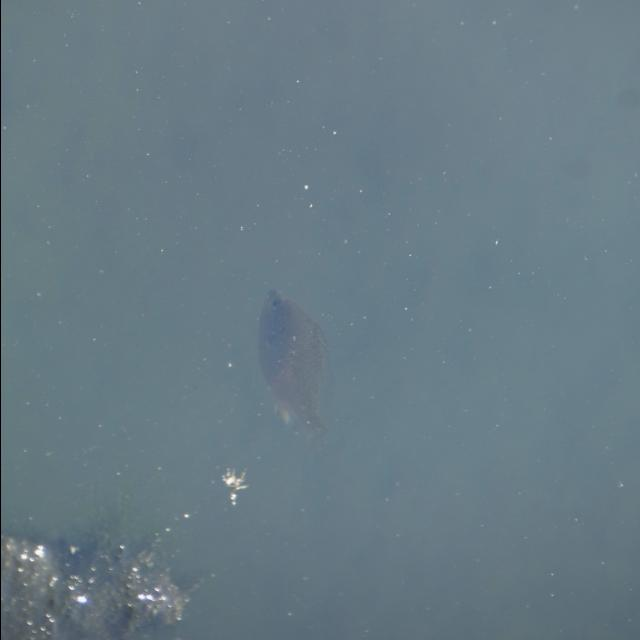Gunes Levregi: (256, 288, 332, 442)
